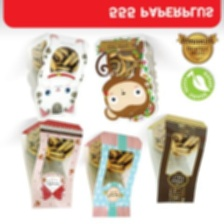snack: (87, 30, 164, 128), (139, 110, 211, 210), (13, 117, 86, 214), (18, 29, 91, 126), (78, 127, 145, 221)
